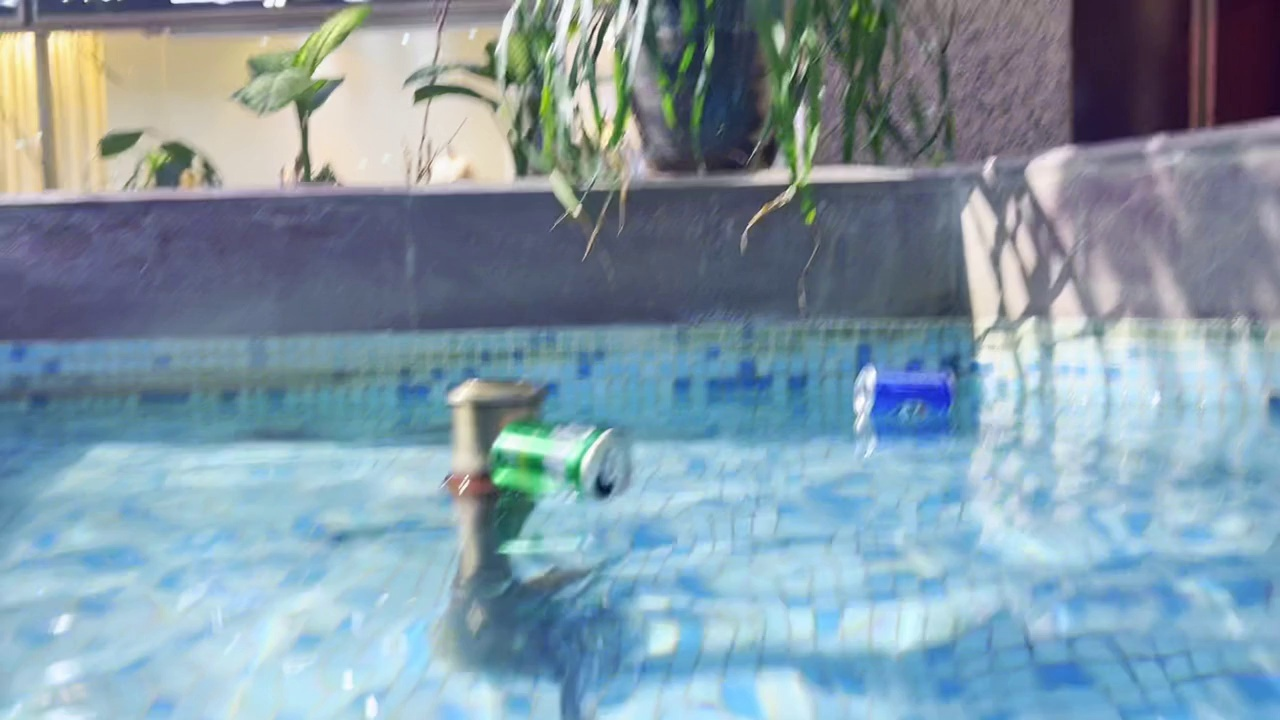debris: (483, 406, 636, 508), (846, 363, 966, 429)
